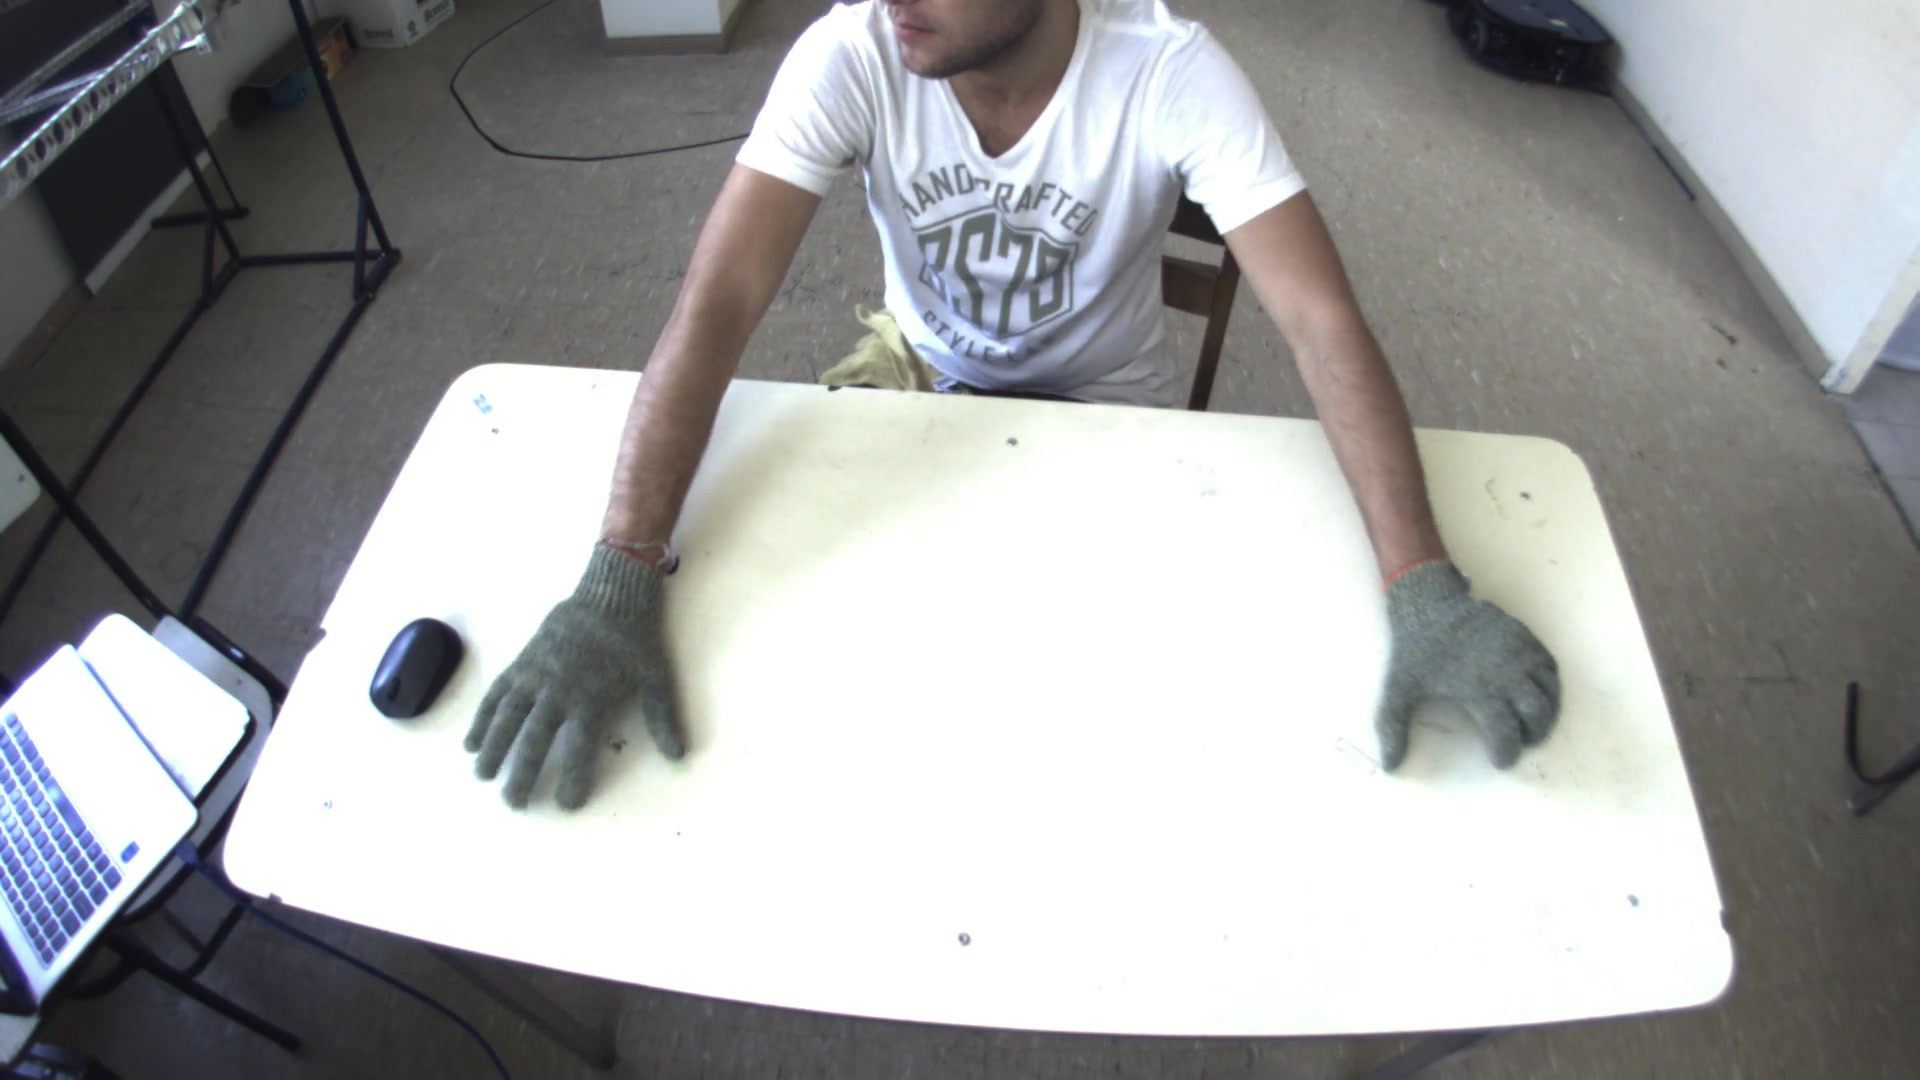hand: (448, 531, 690, 824), (1361, 560, 1576, 793)
